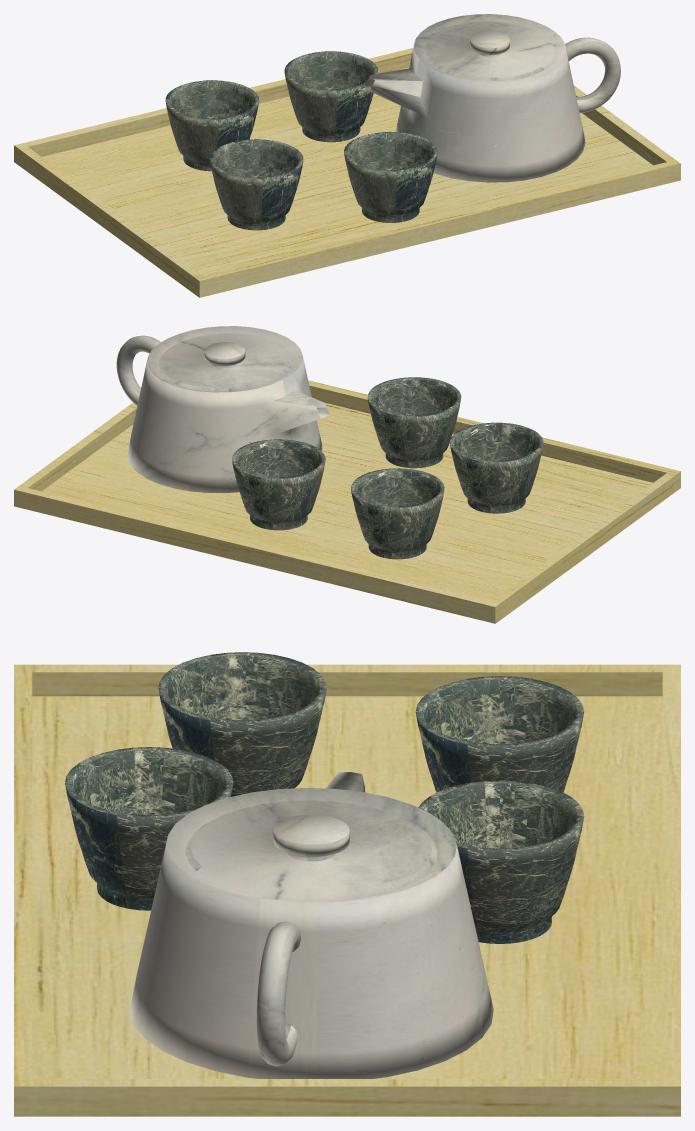
The model's file is japanese_tea_set.glb.
3 views of the same model, one above another, from view 1: azimuth 30°, elevation 25°; view 2: azimuth 150°, elevation 25°; view 3: azimuth 270°, elevation 25° (orthographic). The views are drawn at different scales.
Parts seen in each view (by area): view 1: Plane, Cylinder.004, Cylinder.001, Cylinder.003, Cylinder, Cylinder.002; view 2: Plane, Cylinder.004, Cylinder.001, Cylinder.003, Cylinder.002, Cylinder; view 3: Plane, Cylinder.004, Cylinder.001, Cylinder, Cylinder.003, Cylinder.002.
Part boxes in pixels (box(x1,y1,x2,y2)): Plane: box(14, 48, 680, 297); Cylinder.004: box(364, 14, 620, 182); Cylinder.001: box(210, 139, 303, 230); Cylinder.003: box(344, 132, 437, 222); Cylinder: box(284, 51, 377, 142); Cylinder.002: box(165, 80, 259, 171); Plane: box(14, 380, 680, 623); Cylinder.004: box(116, 326, 329, 492); Cylinder.001: box(450, 422, 543, 513); Cylinder.003: box(367, 377, 461, 468); Cylinder.002: box(351, 468, 444, 559); Cylinder: box(232, 439, 325, 530); Plane: box(14, 664, 680, 1116); Cylinder.004: box(129, 772, 493, 1078); Cylinder.001: box(158, 652, 326, 796); Cylinder: box(418, 780, 584, 943); Cylinder.003: box(65, 747, 233, 910); Cylinder.002: box(415, 676, 584, 792).
Size of the model in its own units: 17.52 by 3.64 by 11.45.
3 materials, 3 textured.
